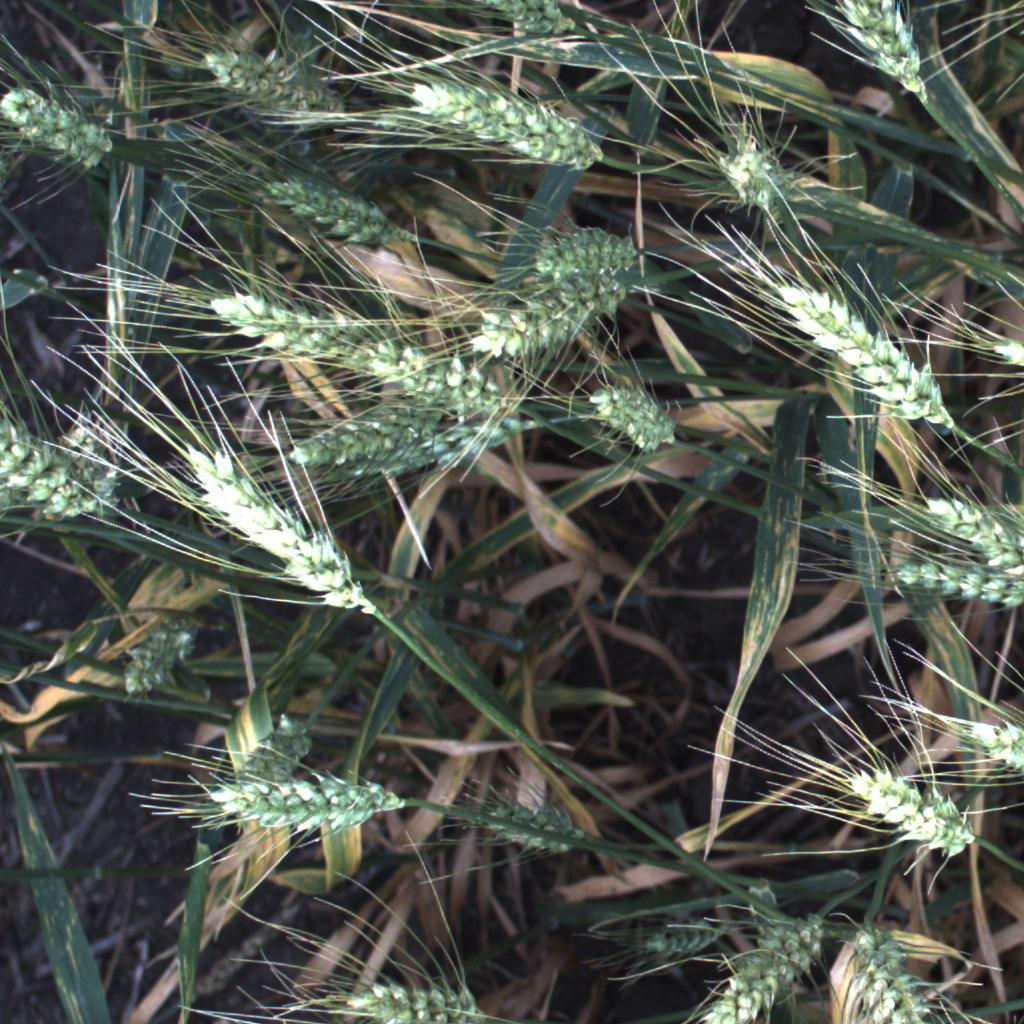0-0: (178, 431, 389, 631), (767, 267, 964, 440), (391, 67, 618, 183), (188, 280, 385, 378), (195, 758, 418, 840), (465, 272, 659, 363), (354, 410, 540, 503), (690, 904, 833, 1024), (184, 37, 359, 135), (832, 757, 992, 860), (245, 164, 414, 256), (3, 414, 119, 537), (346, 333, 508, 418), (0, 77, 126, 180), (828, 0, 939, 107), (572, 367, 692, 463), (276, 406, 457, 469), (840, 919, 947, 1024), (877, 543, 1024, 618), (697, 121, 807, 220), (515, 215, 660, 289), (915, 486, 1024, 583), (330, 974, 499, 1024), (471, 795, 590, 860), (450, 0, 591, 52), (240, 707, 322, 786), (124, 613, 201, 693), (632, 914, 743, 966), (955, 704, 1024, 785)
